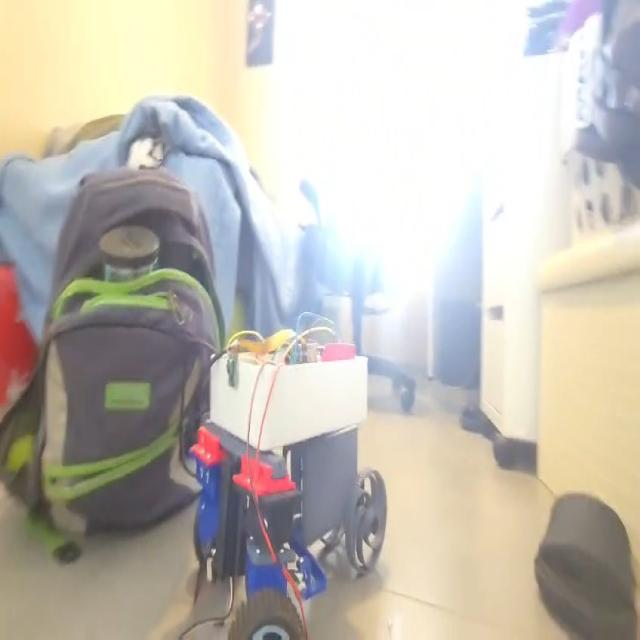Robot: (190, 315, 386, 639)
